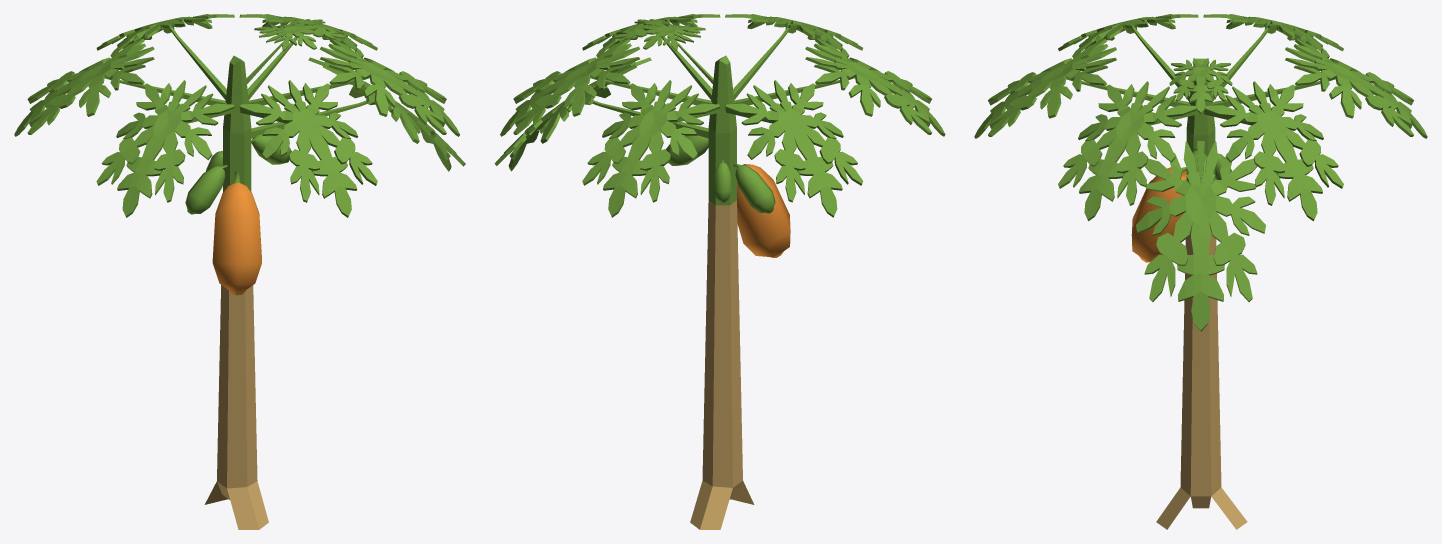
File: PapayaTree.glb
The picture shows the model from 3 angles, left to right: view 1: azimuth 30°, elevation 25°; view 2: azimuth 150°, elevation 25°; view 3: azimuth 270°, elevation 25°; orthographic projection.
Parts seen in each view (by area): view 1: PapayaTreeLeaves.001, Stem, GrownPapaya, PapayaTreeLeaves, PapayaTreeLeaves.002, HigherStem, SmallPapaya, SmallPapaya.002; view 2: PapayaTreeLeaves.001, Stem, GrownPapaya, PapayaTreeLeaves, PapayaTreeLeaves.002, HigherStem, SmallPapaya, SmallPapaya.002, SmallPapaya.001; view 3: PapayaTreeLeaves.001, PapayaTreeLeaves, Stem, PapayaTreeLeaves.002, GrownPapaya, HigherStem.
Part boxes in pixels (x1,y1,x2,y2): PapayaTreeLeaves.001: [14, 14, 459, 217]; Stem: [204, 128, 268, 529]; GrownPapaya: [212, 171, 261, 295]; PapayaTreeLeaves: [251, 57, 465, 171]; PapayaTreeLeaves.002: [246, 19, 345, 83]; HigherStem: [223, 55, 251, 133]; SmallPapaya: [185, 165, 227, 214]; SmallPapaya.002: [251, 134, 291, 164]; PapayaTreeLeaves.001: [500, 14, 945, 217]; Stem: [690, 128, 754, 529]; GrownPapaya: [737, 164, 790, 257]; PapayaTreeLeaves: [494, 57, 708, 171]; PapayaTreeLeaves.002: [614, 19, 713, 83]; HigherStem: [708, 55, 736, 132]; SmallPapaya: [733, 164, 775, 213]; SmallPapaya.002: [666, 135, 708, 165]; SmallPapaya.001: [714, 158, 731, 202]; PapayaTreeLeaves.001: [974, 14, 1427, 221]; PapayaTreeLeaves: [1136, 141, 1265, 331]; Stem: [1156, 130, 1247, 529]; PapayaTreeLeaves.002: [1169, 58, 1232, 113]; GrownPapaya: [1131, 167, 1186, 262]; HigherStem: [1186, 58, 1215, 135].
Size of the model in its own units: 4.91 by 5.69 by 4.89.
